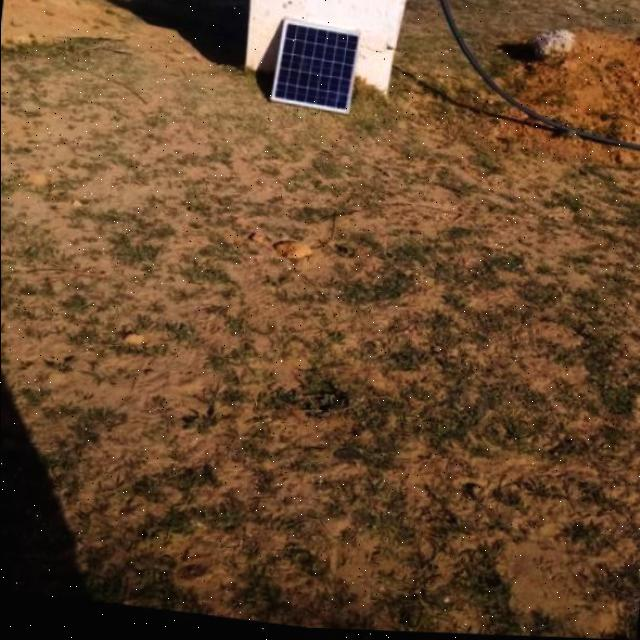Normal Solar Panel: (270, 24, 359, 118)
